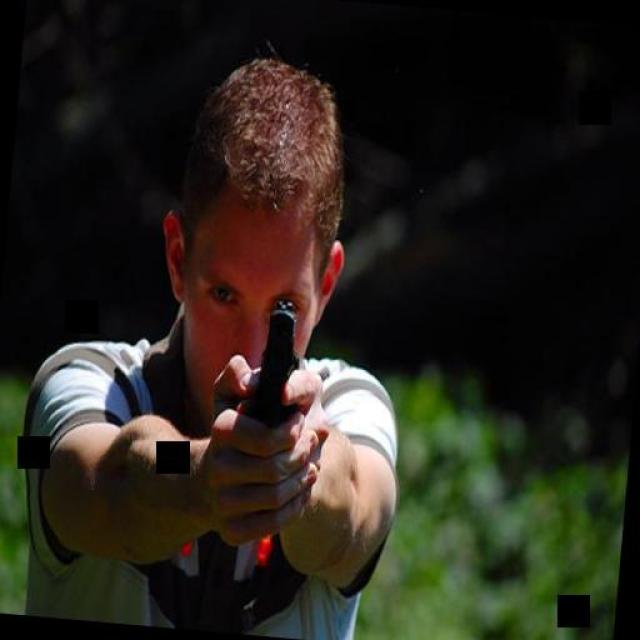gun: (255, 296, 303, 424)
